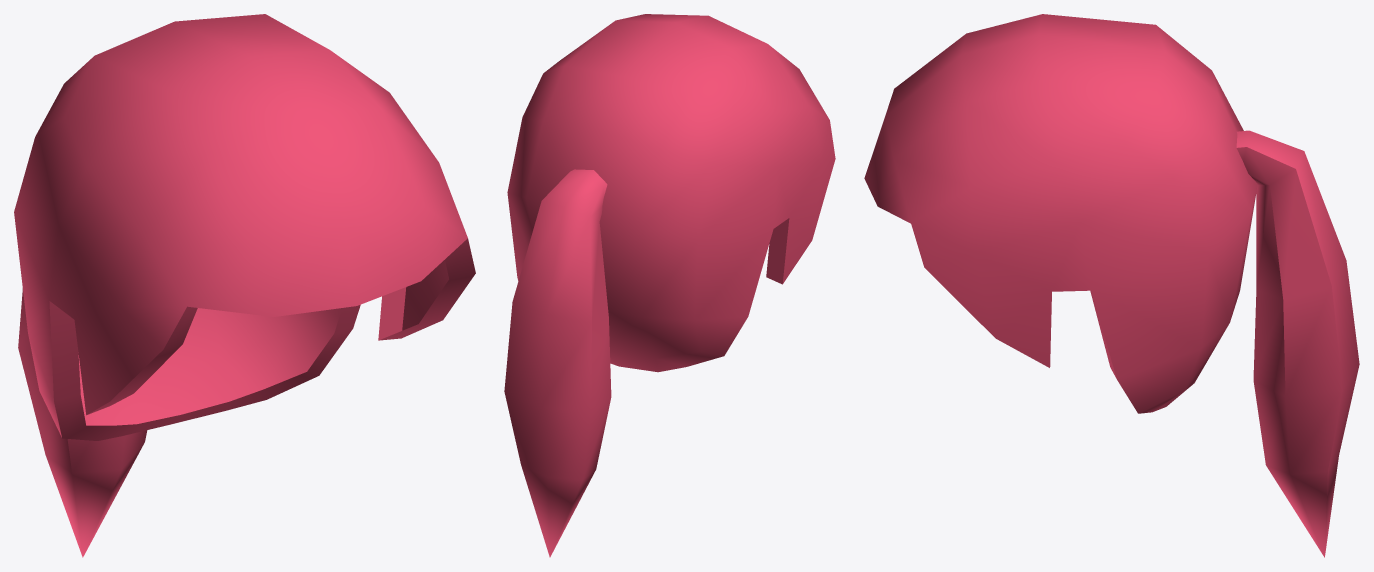
File: Hair_5.FBX
3 renders of one model, left to right at view 1: azimuth 30°, elevation 25°; view 2: azimuth 150°, elevation 25°; view 3: azimuth 270°, elevation 25°, orthographic. The views are drawn at different scales.
Visible parts, largest first — view 1: Hair_5; view 2: Hair_5; view 3: Hair_5.
Boxes of the visible parts, <box> form: Hair_5: <box>14,14,475,557</box>; Hair_5: <box>504,14,835,557</box>; Hair_5: <box>864,14,1359,557</box>.
Bounding box in the file's own units: 0.1774 × 0.314 × 0.2703.
